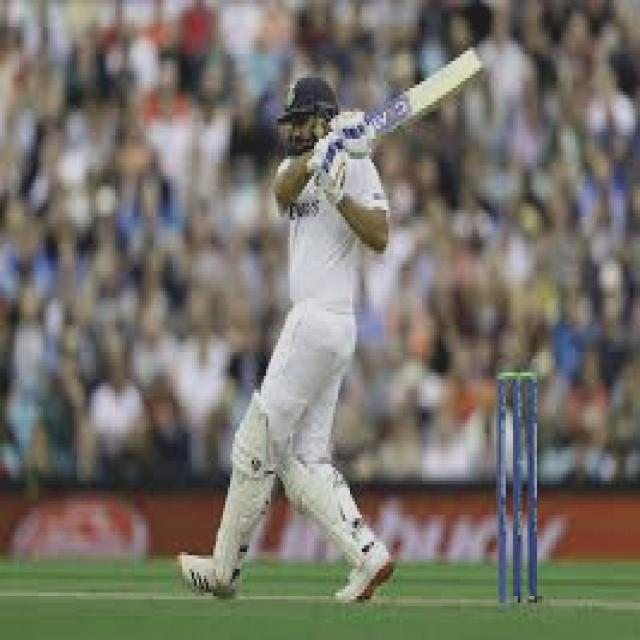toe: (472, 44, 485, 74)
